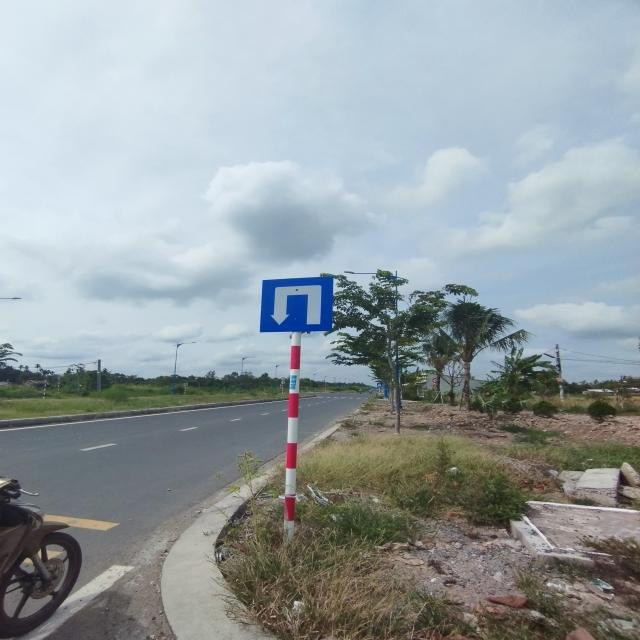Den_Giao_Thong: (260, 277, 334, 332)
